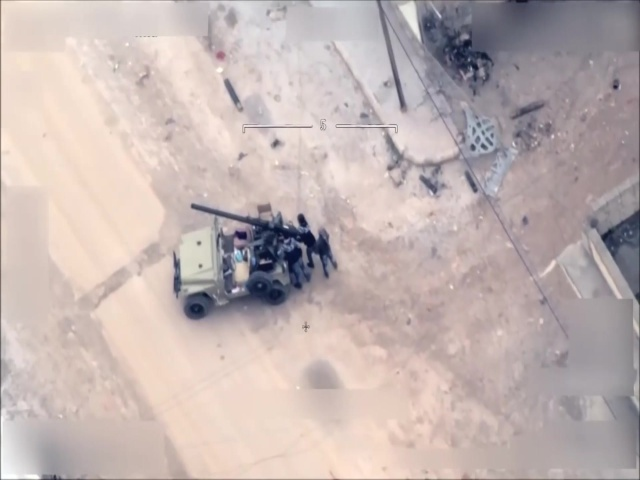person: (274, 230, 312, 292), (291, 206, 320, 270), (316, 224, 340, 278)
vehicle: (172, 212, 290, 321)
